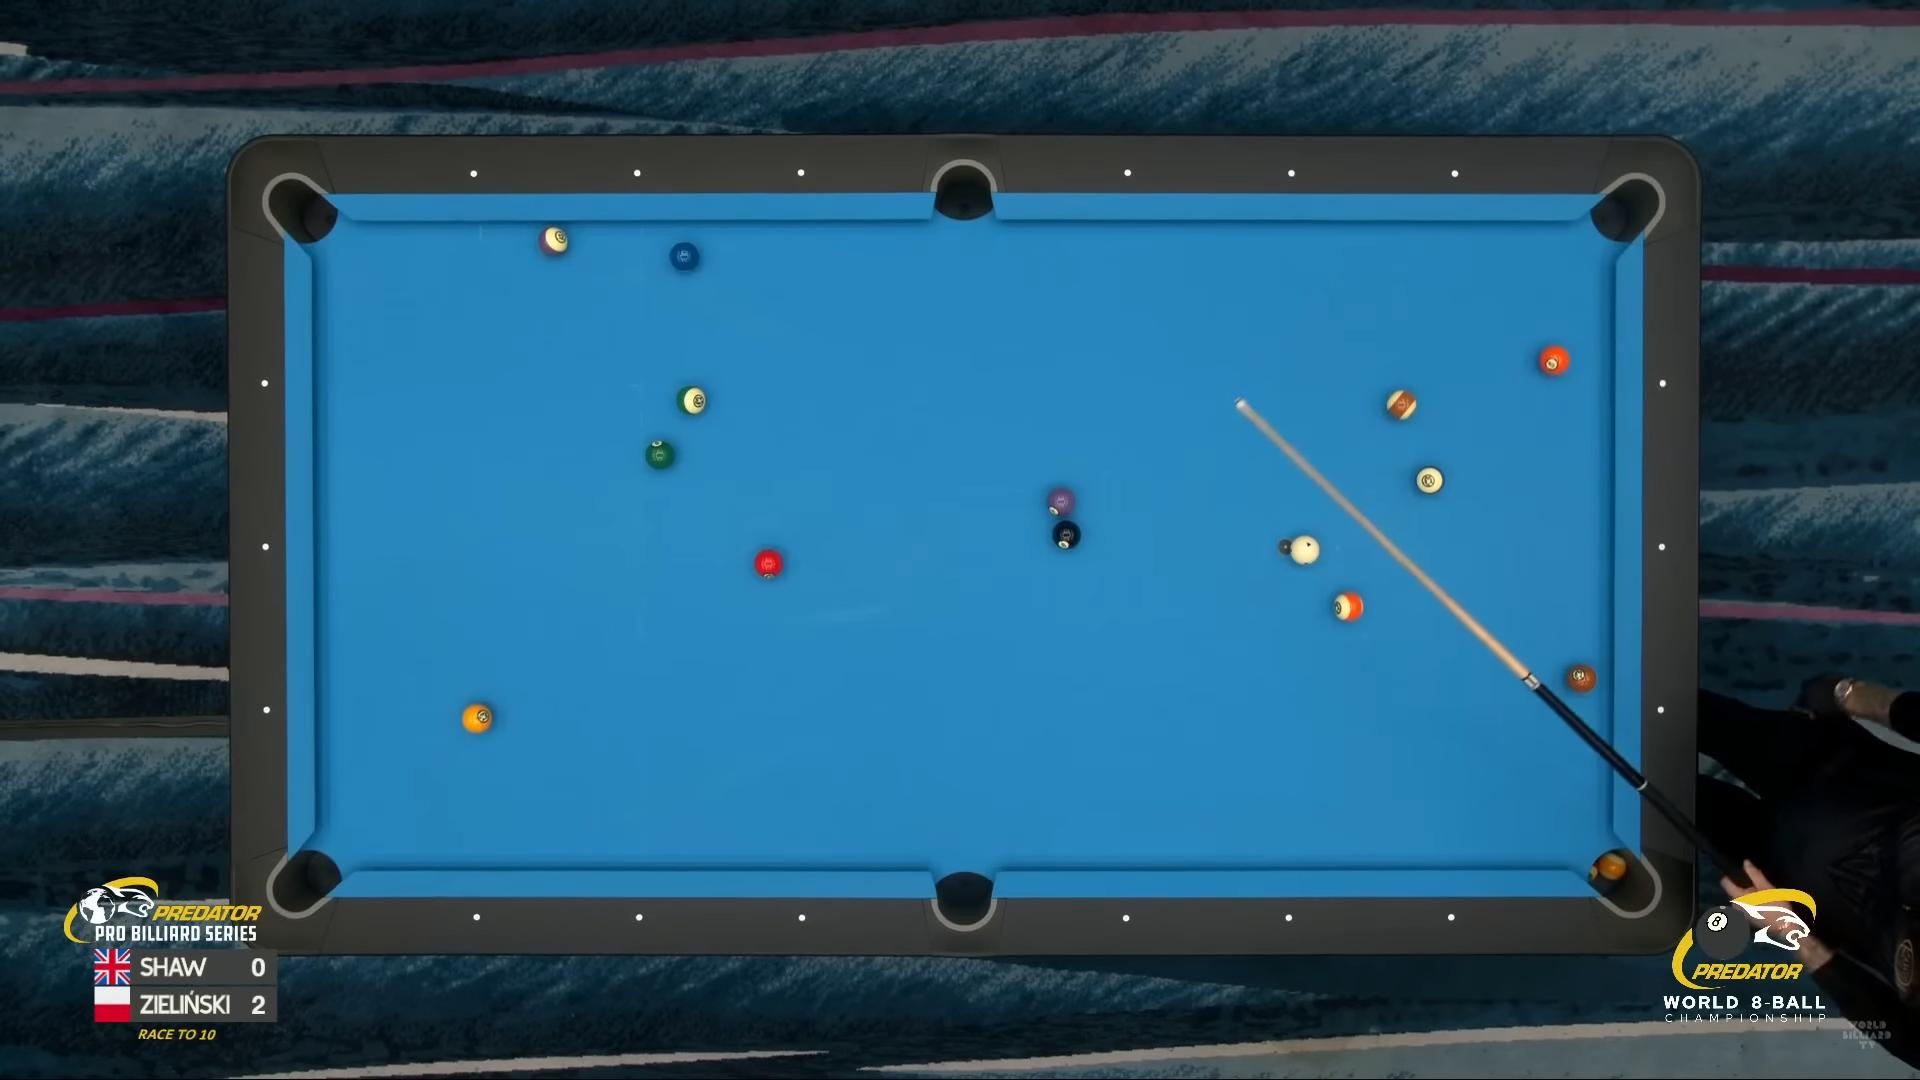Black: (1052, 521, 1081, 550)
Cue: (1291, 535, 1320, 564)
Dot: (260, 703, 274, 717), (1448, 166, 1462, 181), (1444, 910, 1458, 924), (1280, 910, 1295, 924), (632, 910, 646, 924), (468, 910, 483, 924), (258, 541, 273, 554), (258, 377, 272, 392), (468, 167, 481, 182), (630, 166, 644, 181), (794, 166, 808, 179), (1121, 166, 1135, 179), (1284, 166, 1298, 181), (1655, 376, 1668, 390), (1655, 541, 1669, 554), (1655, 703, 1668, 717), (1120, 910, 1133, 924), (795, 911, 810, 924)
Solid: (463, 702, 493, 735), (1539, 344, 1571, 375), (756, 549, 785, 580), (670, 243, 700, 272), (1047, 488, 1076, 517), (646, 440, 675, 469), (1567, 665, 1596, 692)
Striped: (1387, 390, 1418, 421), (1335, 591, 1364, 621), (676, 386, 707, 415), (541, 225, 568, 255), (1415, 467, 1444, 493)
